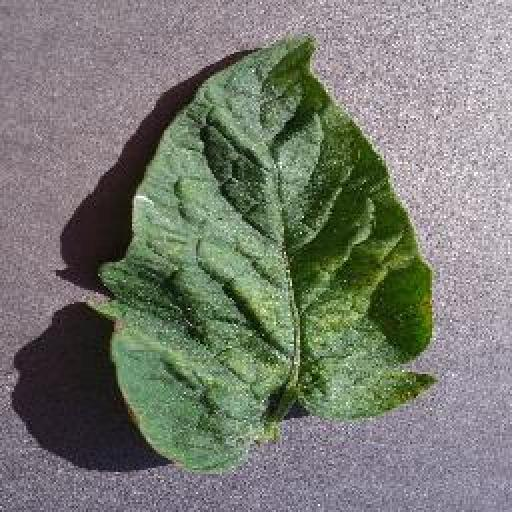disease_tomato: (107, 32, 438, 476)
